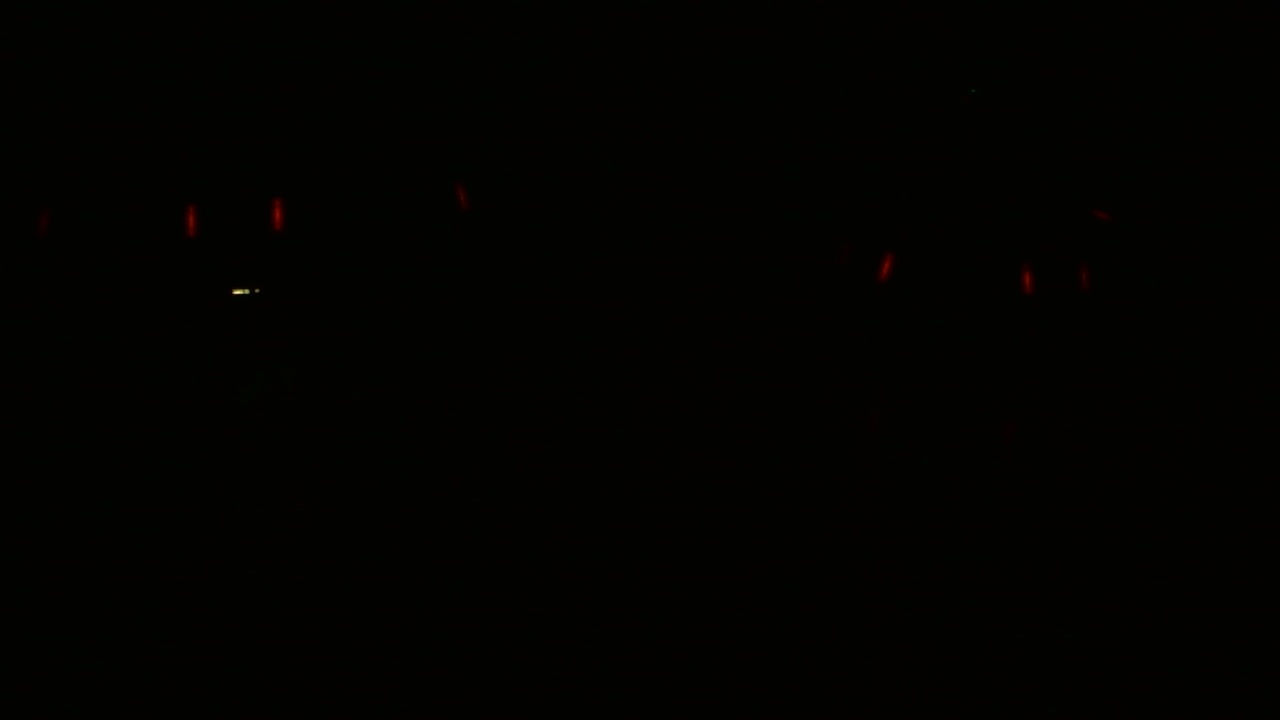pair1: (175, 197, 291, 235), (1020, 264, 1095, 295)
